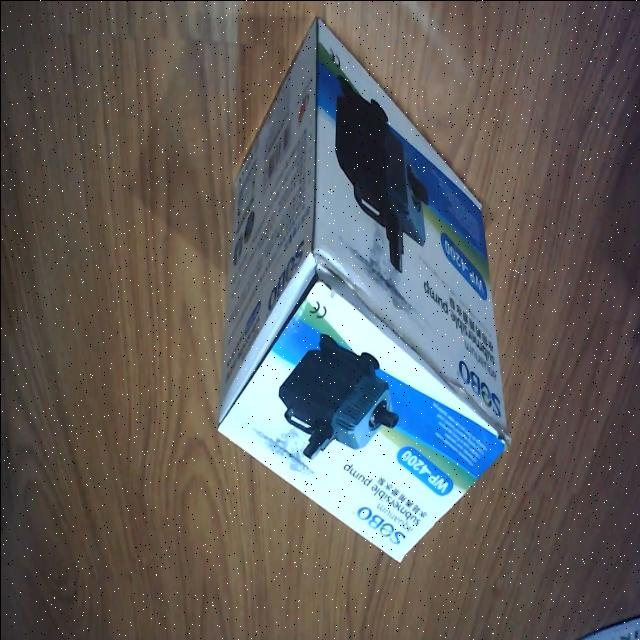SOBO_WP_4200: (215, 11, 514, 572)
